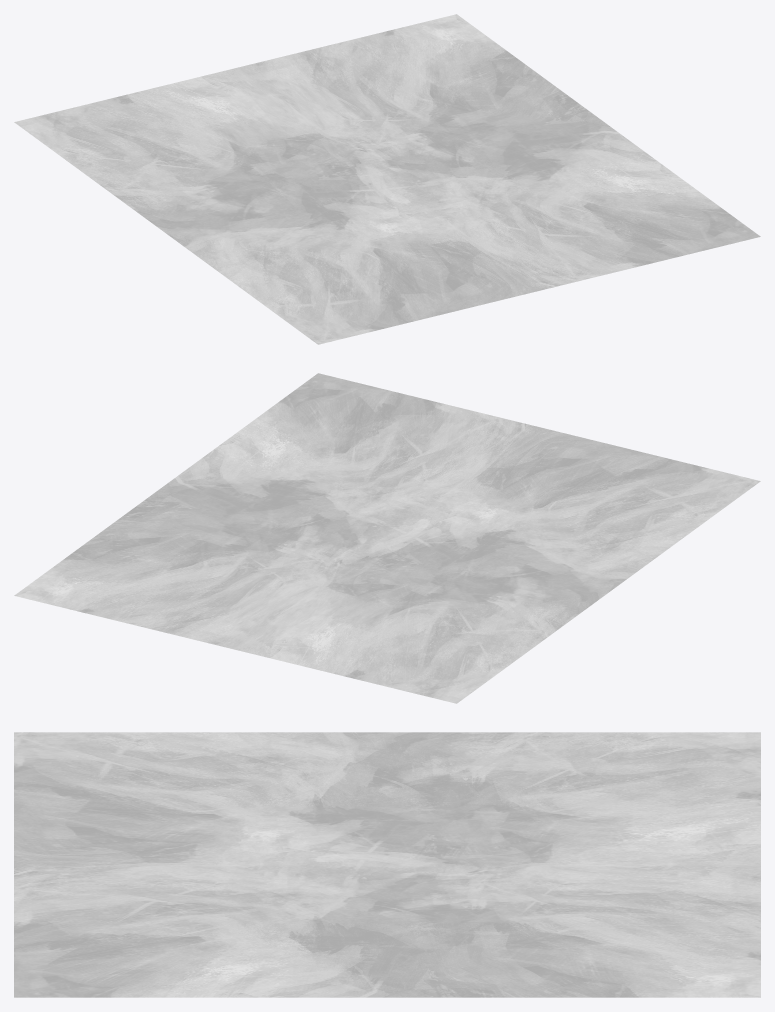
Rendered from SnowTile.fbx.
The picture shows the model from 3 angles, top to bottom: view 1: azimuth 30°, elevation 25°; view 2: azimuth 150°, elevation 25°; view 3: azimuth 270°, elevation 25°; orthographic projection. The views are drawn at different scales.
Visible parts, largest first — view 1: SM_Landscape_Boss_01.mo; view 2: SM_Landscape_Boss_01.mo; view 3: SM_Landscape_Boss_01.mo.
Part boxes in pixels (x1,y1,x2,y2): SM_Landscape_Boss_01.mo: (14,14,760,344); SM_Landscape_Boss_01.mo: (14,373,760,703); SM_Landscape_Boss_01.mo: (14,732,760,997).
Bounding box in the file's own units: 6420 × 0.00124 × 7639.
1 material, 1 textured.
